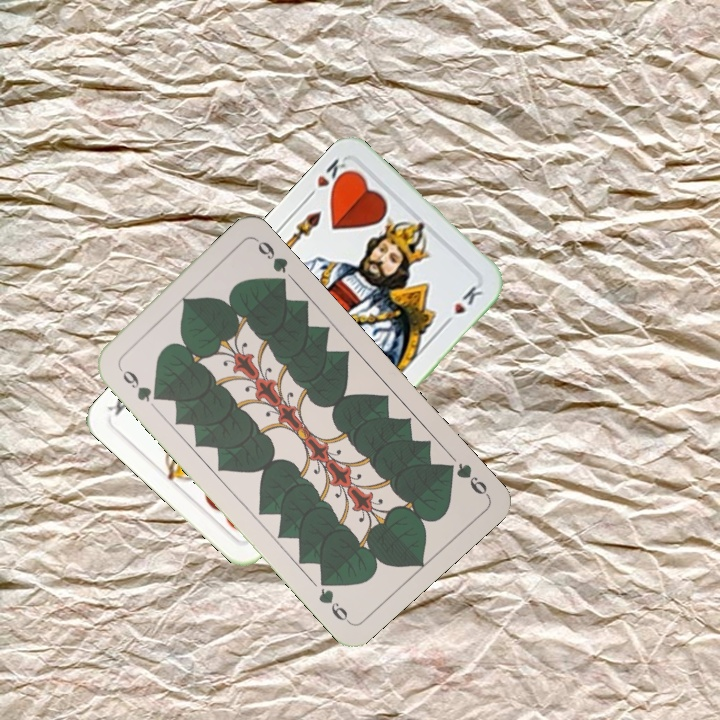G9: (114, 361, 163, 405), (439, 458, 491, 499)
HK: (302, 154, 355, 203)
